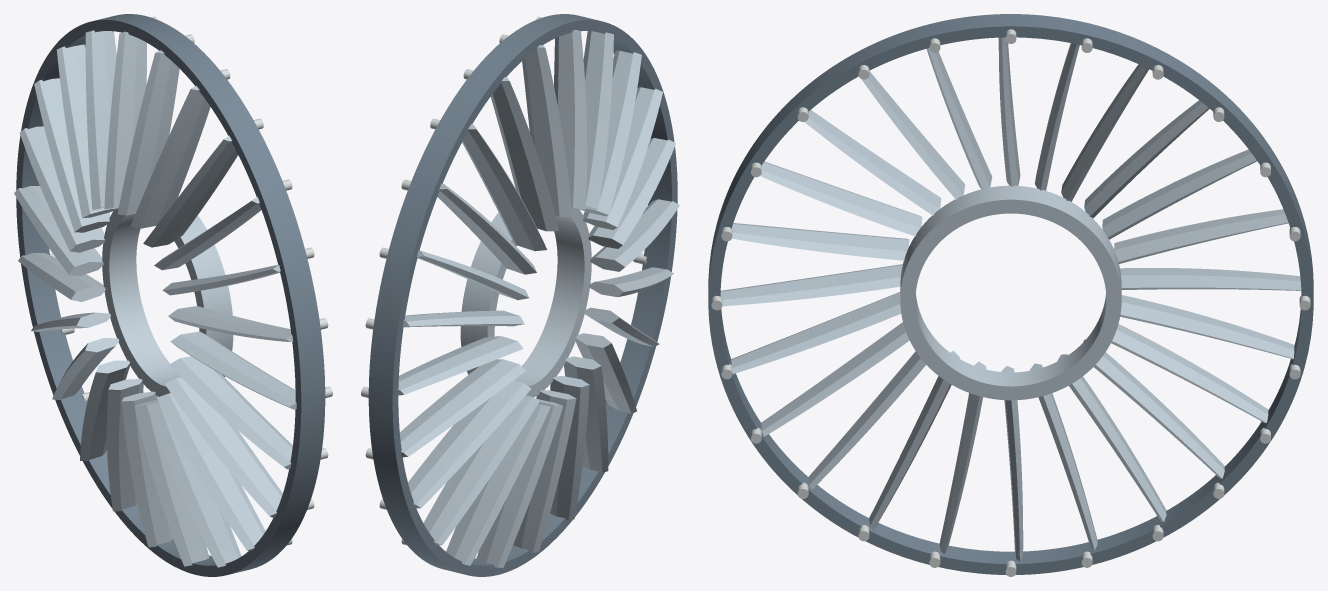
The model's file is fan-outlet-guides.glb.
3 views of the same model, side by side, from view 1: azimuth 30°, elevation 25°; view 2: azimuth 150°, elevation 25°; view 3: azimuth 270°, elevation 25° (orthographic). The views are drawn at different scales.
Parts seen in each view (by area): view 1: fan-outlet-guides - blade, fan-outlet-guides - shell, fan-outlet-guides - fastener; view 2: fan-outlet-guides - blade, fan-outlet-guides - shell, fan-outlet-guides - fastener; view 3: fan-outlet-guides - blade, fan-outlet-guides - shell, fan-outlet-guides - fastener.
Part boxes in pixels (x1,y1,x2,y2): fan-outlet-guides - blade: [14, 30, 296, 567]; fan-outlet-guides - shell: [16, 14, 325, 576]; fan-outlet-guides - fastener: [50, 16, 332, 545]; fan-outlet-guides - blade: [397, 30, 679, 567]; fan-outlet-guides - shell: [368, 14, 677, 576]; fan-outlet-guides - fastener: [361, 16, 646, 558]; fan-outlet-guides - blade: [720, 37, 1301, 561]; fan-outlet-guides - shell: [708, 14, 1313, 574]; fan-outlet-guides - fastener: [711, 29, 1310, 576].
Bounding box in the file's own units: 0.308 × 2.1 × 2.1.
